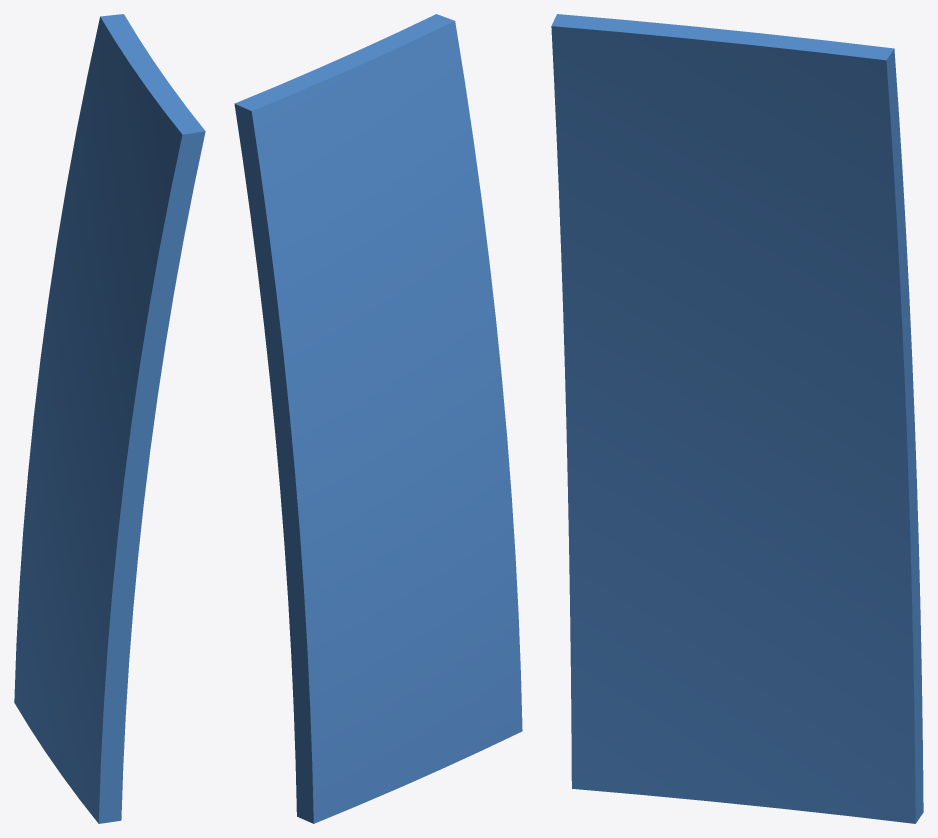
The picture shows the model from 3 angles, left to right: view 1: azimuth 30°, elevation 25°; view 2: azimuth 150°, elevation 25°; view 3: azimuth 270°, elevation 25°; orthographic projection. The views are drawn at different scales.
Parts seen in each view (by area): view 1: Body1; view 2: Body1; view 3: Body1.
Boxes of the visible parts, x1=… form: Body1: x1=14, y1=14, x2=205, y2=823; Body1: x1=234, y1=14, x2=522, y2=823; Body1: x1=551, y1=14, x2=923, y2=823.
Bounding box in the file's own units: 1.18 × 4.95 × 2.07.
